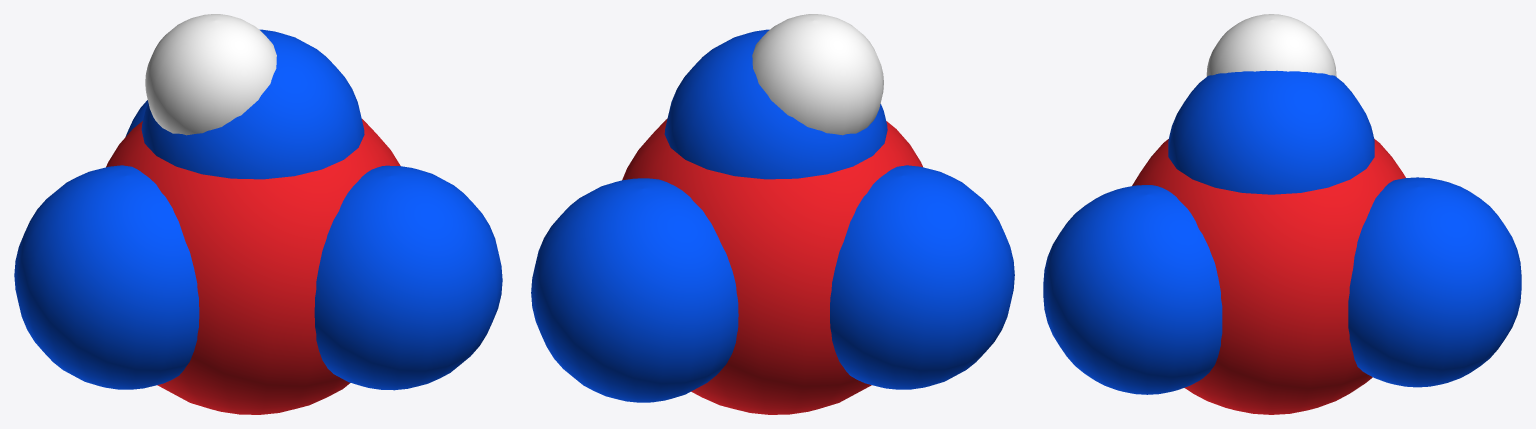
File: HClO4.fbx
The picture shows the model from 3 angles, left to right: view 1: azimuth 30°, elevation 25°; view 2: azimuth 150°, elevation 25°; view 3: azimuth 270°, elevation 25°; orthographic projection. The views are drawn at different scales.
Visible parts, largest first — view 1: Сферы_Node (×5); view 2: Сферы_Node (×5); view 3: Сферы_Node (×5).
Part boxes in pixels (x1,y1,x2,y2): Сферы_Node (×5): (14, 14, 502, 414); Сферы_Node (×5): (531, 14, 1014, 414); Сферы_Node (×5): (1043, 14, 1521, 414).
Bounding box in the file's own units: 3.22 × 3.05 × 3.64.
Materials: 3 (3 with a texture image).
